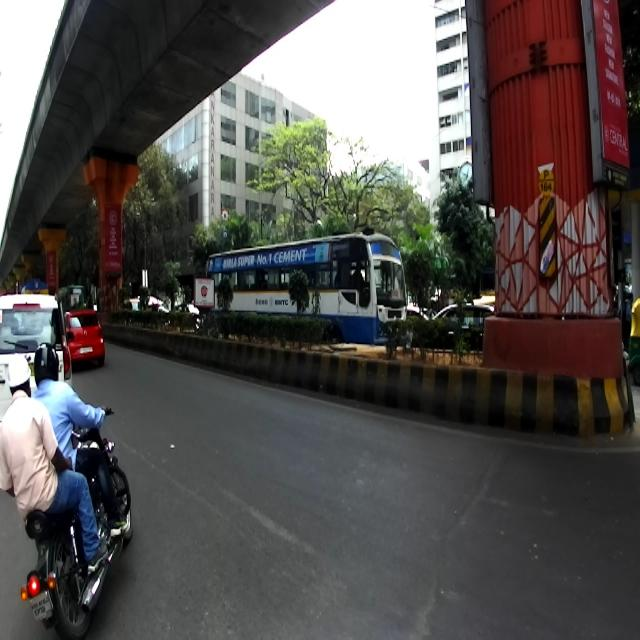bus: (204, 226, 408, 352)
car: (0, 291, 74, 439), (416, 302, 496, 352)
motorcycle: (19, 405, 135, 639)
